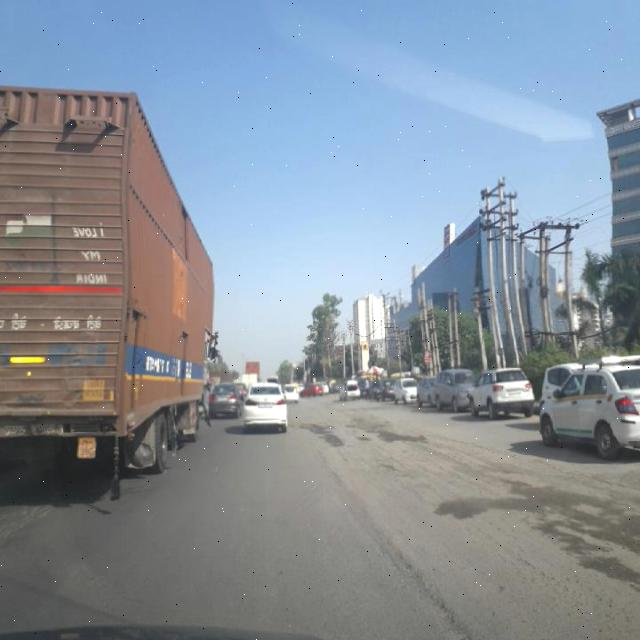D00: (358, 500, 469, 634)
